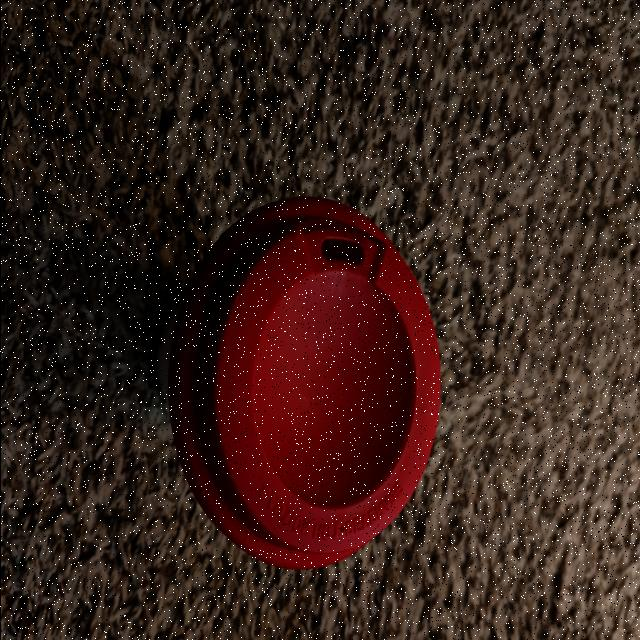mug: (153, 197, 437, 564)
